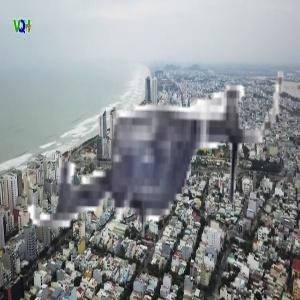drone: (11, 21, 290, 300)
